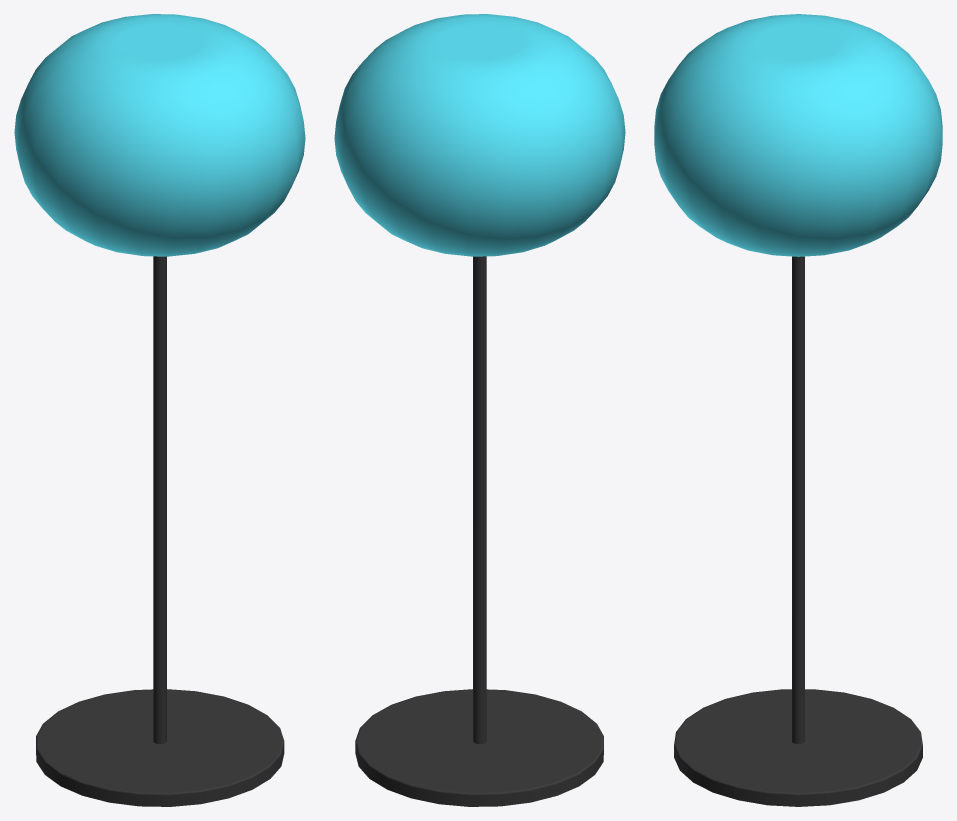
File: SM_FloorLight_002_b.FBX
3 renders of one model, left to right at view 1: azimuth 30°, elevation 25°; view 2: azimuth 150°, elevation 25°; view 3: azimuth 270°, elevation 25°, orthographic.
Parts seen in each view (by area): view 1: SM_FloorLight_002_b; view 2: SM_FloorLight_002_b; view 3: SM_FloorLight_002_b.
Boxes of the visible parts, x1,y1,x2,y2 form: SM_FloorLight_002_b: [14, 14, 305, 806]; SM_FloorLight_002_b: [334, 14, 625, 806]; SM_FloorLight_002_b: [654, 14, 942, 806].
Size of the model in its own units: 41.37 by 40.95 by 112.
